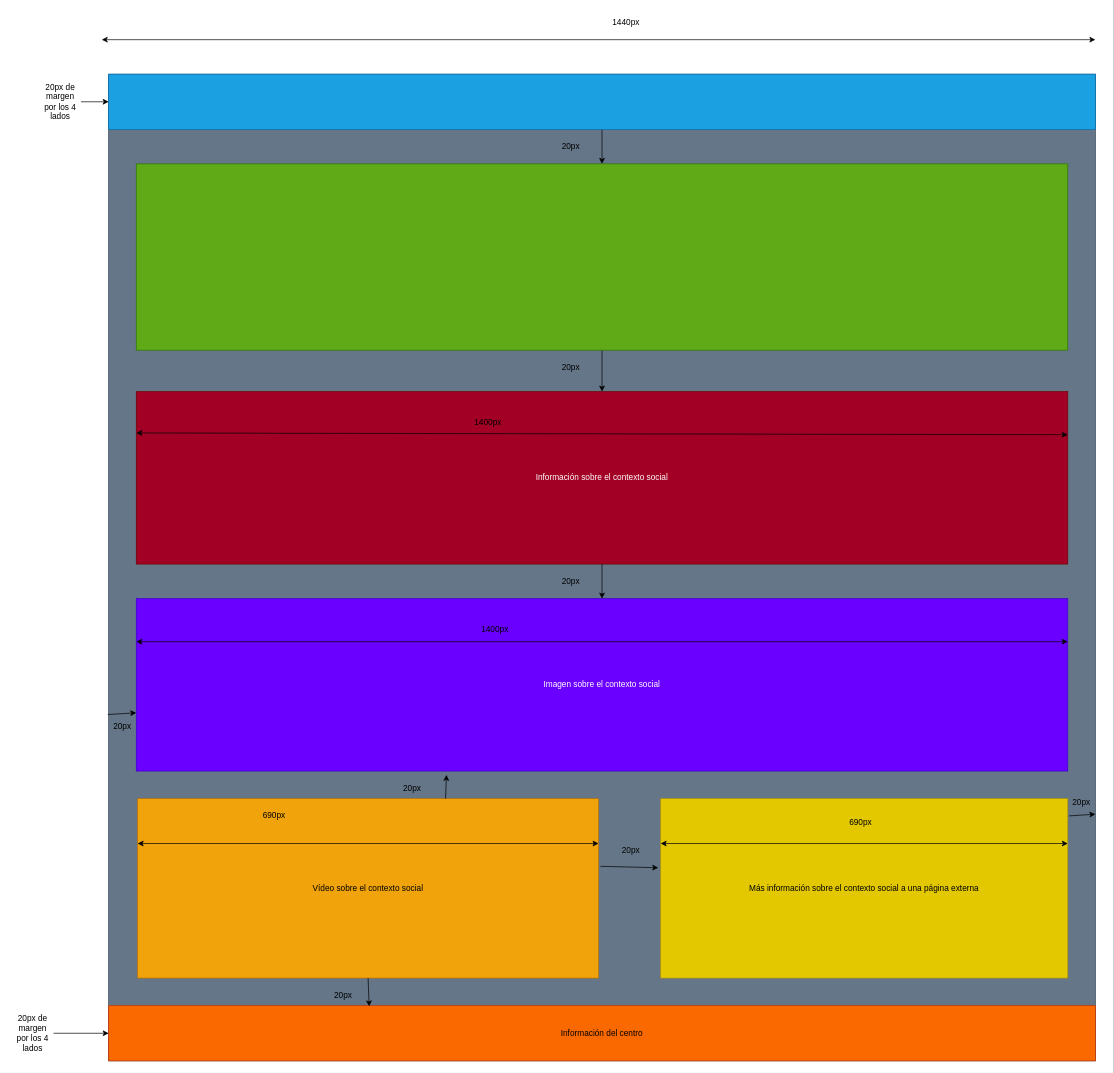
This 1114x1073 diagram has some shape labels left out. The shapes that lost their labels are listed below. From the top down, each one's centre as x and y in pixels, then its label:
At point (601, 101): "Titulo".
At point (602, 256): "Mensaje de felicitación".
